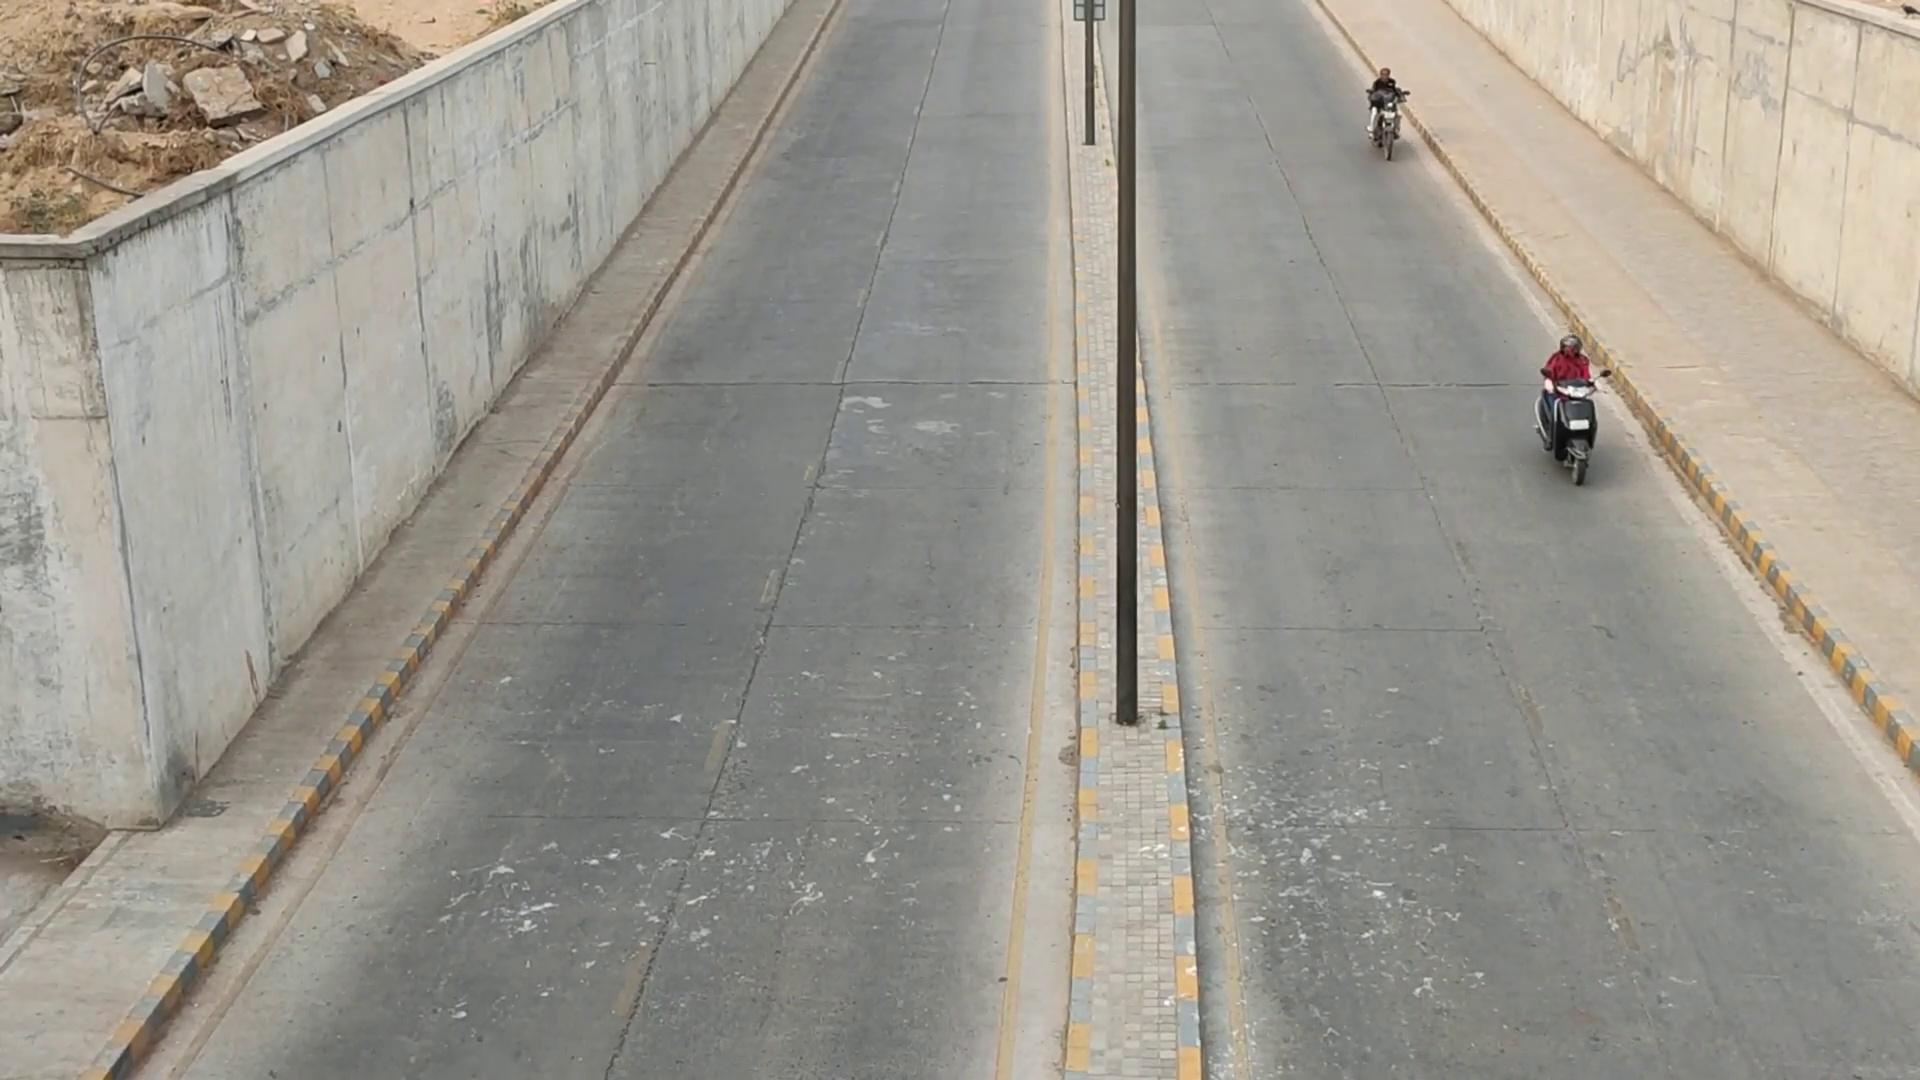Motorcycle: (1522, 328, 1619, 481), (1362, 58, 1408, 165)
